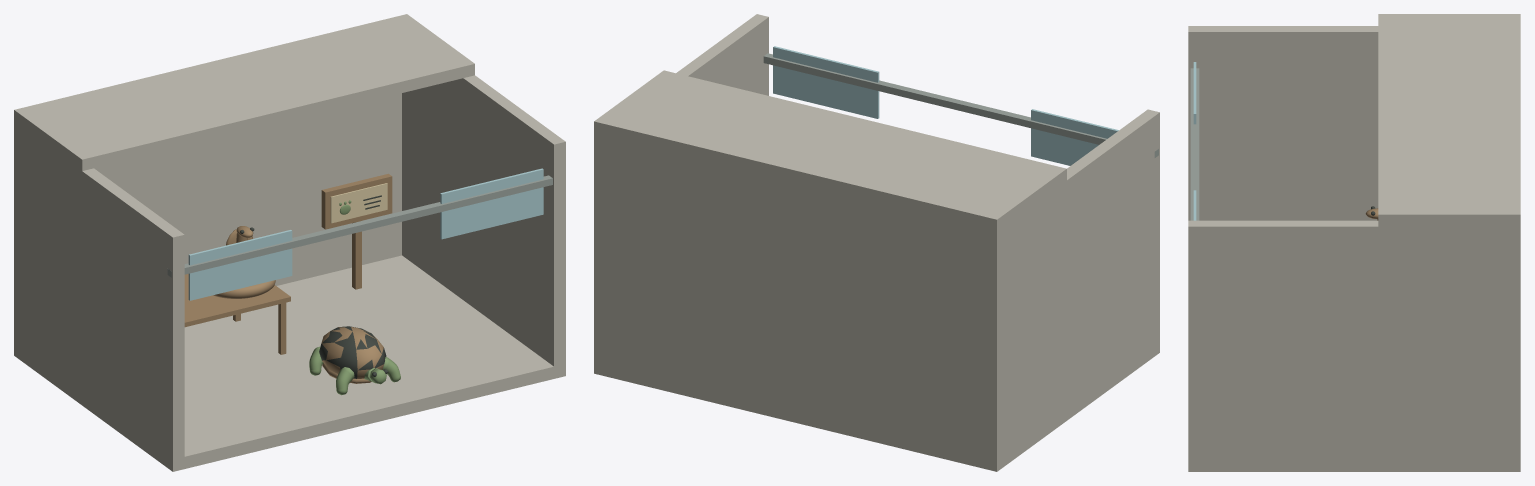
Rendered from zoo-and-safari-park-builder-reptile-house-interior-661ba657__21526.glb.
3 renders of one model, left to right at view 1: azimuth 30°, elevation 25°; view 2: azimuth 150°, elevation 25°; view 3: azimuth 270°, elevation 25°, orthographic. The views are drawn at different scales.
Parts seen in each view (by area): view 1: 000-reptile-house-shell/0, 000-reptile-house-shell/1, 000-reptile-house-shell/2, 001-terrarium-display-shelf-unit/0, 005-species-information-sign/0, 005-species-information-sign/1, 004-galapagos-giant-tortoise/1, 004-galapagos-giant-tortoise/0, 004-galapagos-giant-tortoise/3, 003-king-cobra-hooded/0; view 2: 000-reptile-house-shell/0, 000-reptile-house-shell/1, 000-reptile-house-shell/2; view 3: 000-reptile-house-shell/0, 000-reptile-house-shell/2, 000-reptile-house-shell/1.
Boxes of the visible parts, left/top/right/bottom form: 000-reptile-house-shell/0: left=14, top=14, right=565, bottom=471; 000-reptile-house-shell/1: left=188, top=168, right=543, bottom=300; 000-reptile-house-shell/2: left=167, top=175, right=552, bottom=277; 001-terrarium-display-shelf-unit/0: left=184, top=274, right=290, bottom=354; 005-species-information-sign/0: left=321, top=173, right=392, bottom=289; 005-species-information-sign/1: left=330, top=183, right=387, bottom=223; 004-galapagos-giant-tortoise/1: left=319, top=326, right=386, bottom=378; 004-galapagos-giant-tortoise/0: left=321, top=327, right=384, bottom=378; 004-galapagos-giant-tortoise/3: left=309, top=346, right=400, bottom=395; 003-king-cobra-hooded/0: left=213, top=226, right=275, bottom=298; 000-reptile-house-shell/0: left=594, top=14, right=1159, bottom=471; 000-reptile-house-shell/1: left=773, top=46, right=1118, bottom=165; 000-reptile-house-shell/2: left=763, top=53, right=1158, bottom=157; 000-reptile-house-shell/0: left=1188, top=14, right=1520, bottom=471; 000-reptile-house-shell/2: left=1190, top=68, right=1199, bottom=220; 000-reptile-house-shell/1: left=1193, top=62, right=1196, bottom=220.
Bounding box in the file's own units: 5 × 2.99 × 3.5.
